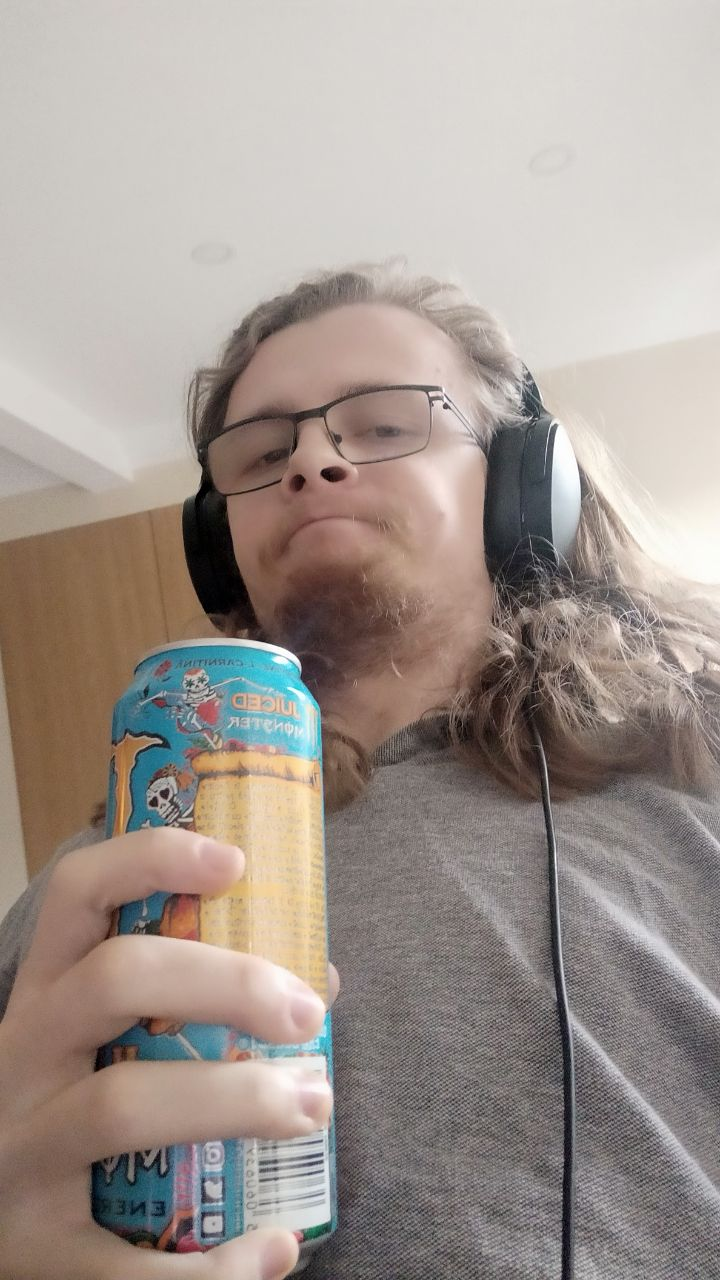Can: (93, 637, 351, 1255)
